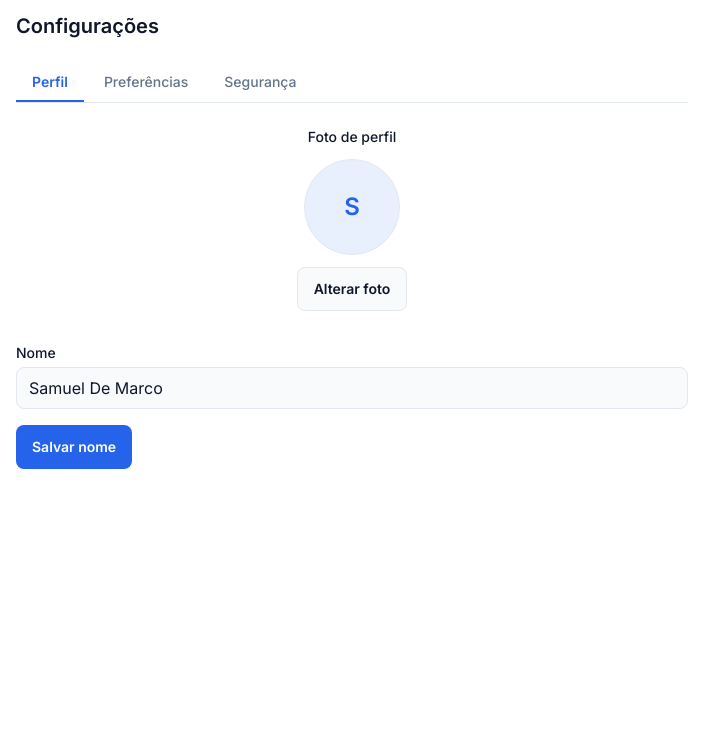
Test: Configuracoes › as tres abas tem os atributos ARIA corretos e trocam de painel ao clicar
The width and height of the screenshot is (705, 740).
Expected: the field labelled "Nome" is shown, [16,367,688,409]
Click the tab "Preferências" at (146,83), box [88,64,204,102]
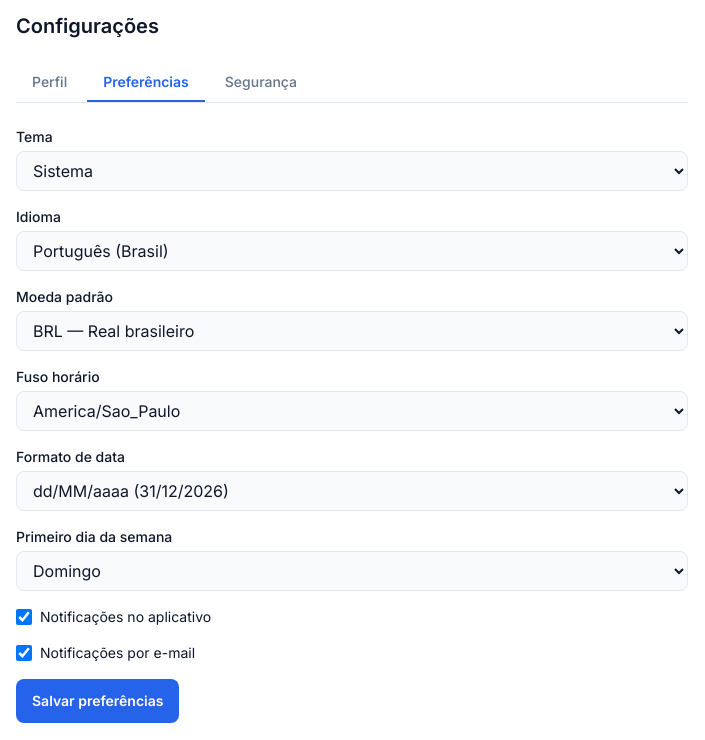
Now the dropdown labelled "Tema" is shown, box [16,151,688,191]
Click the tab "Segurança" at (261,83), box [209,64,313,102]
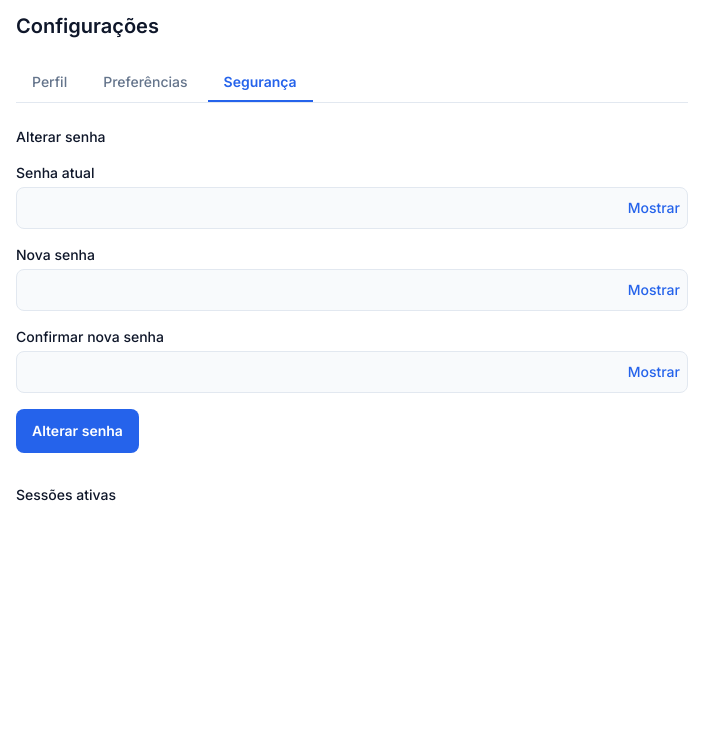
Now the heading "Alterar senha" is shown, box [16,128,106,145]
